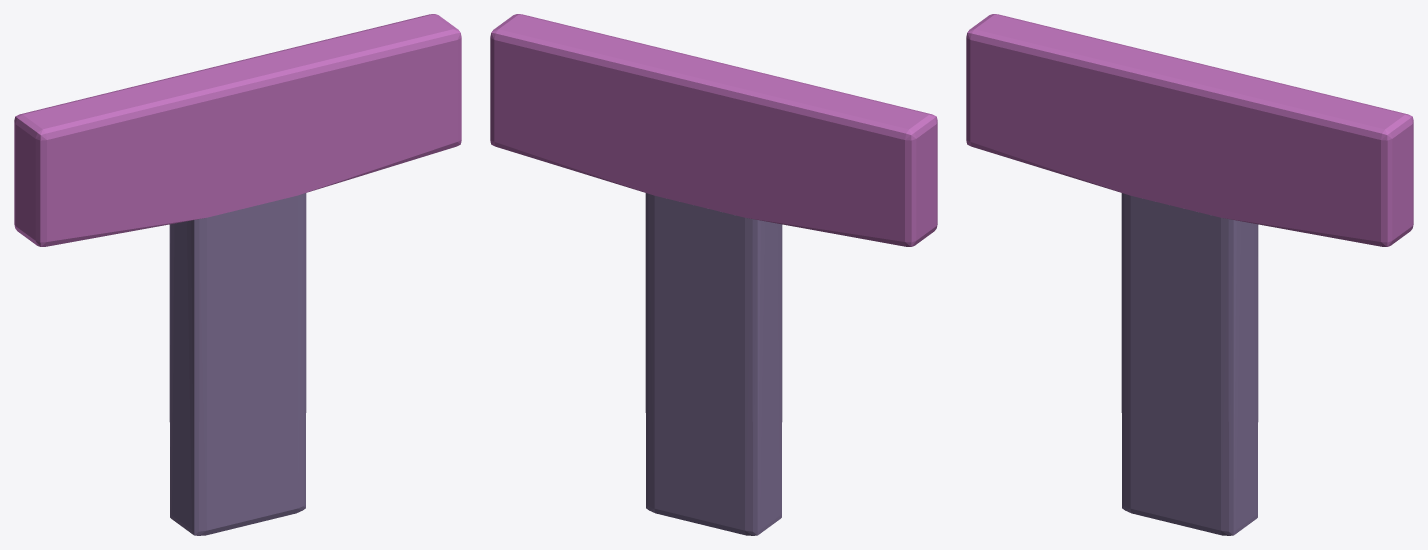
The picture shows the model from 3 angles, left to right: view 1: azimuth 30°, elevation 25°; view 2: azimuth 150°, elevation 25°; view 3: azimuth 330°, elevation 25°; orthographic projection.
Parts seen in each view (by area): view 1: geometry_1, geometry_0; view 2: geometry_1, geometry_0; view 3: geometry_1, geometry_0.
Part boxes in pixels (<box>): geometry_1: <box>14,14,461,246</box>; geometry_0: <box>169,193,306,535</box>; geometry_1: <box>490,14,937,246</box>; geometry_0: <box>645,193,782,535</box>; geometry_1: <box>966,14,1413,246</box>; geometry_0: <box>1121,193,1258,535</box>.
Bounding box in the file's own units: 0.2036 × 0.2037 × 0.0237.
